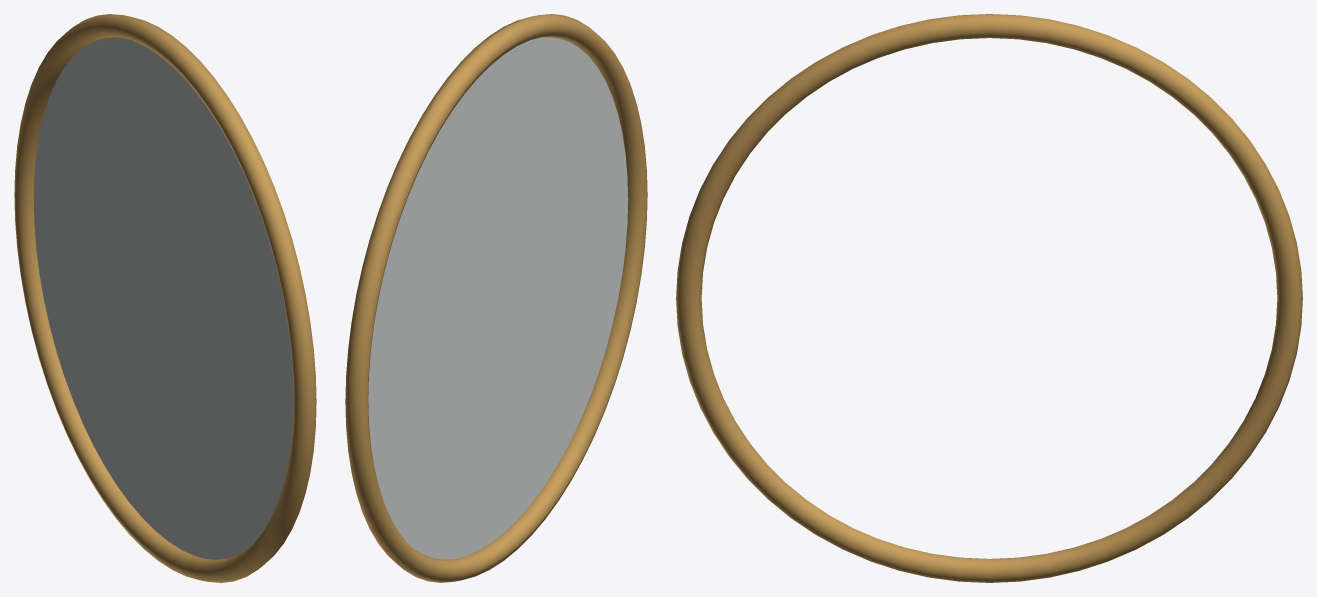
The model's file is Fitting_Mirror.glb.
3 renders of one model, left to right at view 1: azimuth 30°, elevation 25°; view 2: azimuth 150°, elevation 25°; view 3: azimuth 270°, elevation 25°, orthographic. The views are drawn at different scales.
Parts seen in each view (by area): view 1: Fitting_Mirror_Mirror, Fitting_Mirror_Brass; view 2: Fitting_Mirror_Mirror, Fitting_Mirror_Brass; view 3: Fitting_Mirror_Brass.
Boxes of the visible parts, bbox=[...] form: Fitting_Mirror_Mirror: bbox=[33, 37, 293, 559]; Fitting_Mirror_Brass: bbox=[14, 14, 316, 582]; Fitting_Mirror_Mirror: bbox=[368, 37, 628, 559]; Fitting_Mirror_Brass: bbox=[345, 14, 647, 582]; Fitting_Mirror_Brass: bbox=[676, 14, 1302, 582].
Bounding box in the file's own units: 0.04 × 0.98 × 0.98.
